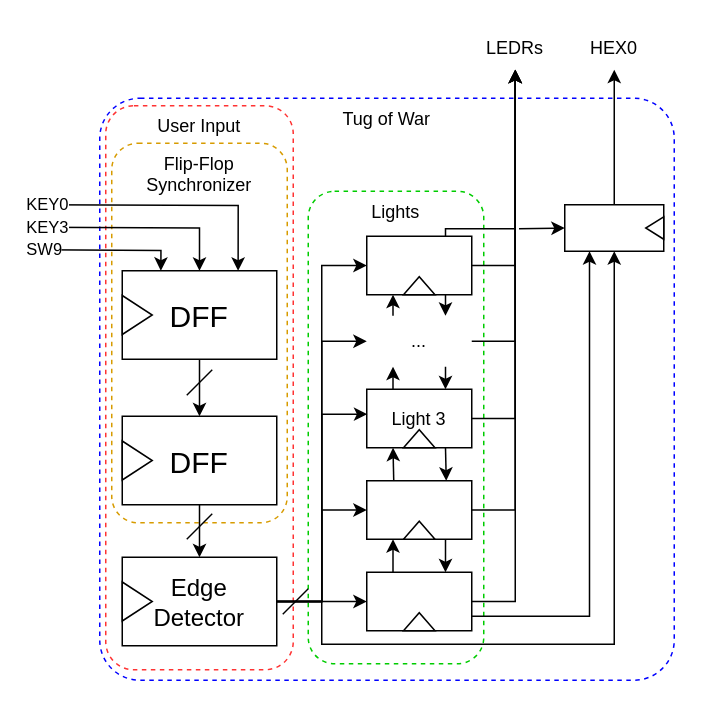
The diagram is 701 pixels wide and 707 high, and some of its shapes have lost their labels. Each missing label, with the box of its shape:
Light 1: (365, 571, 472, 631)
Light 2: (365, 479, 472, 539)
Light 9: (365, 235, 472, 295)
Victory Display: (563, 203, 664, 251)
